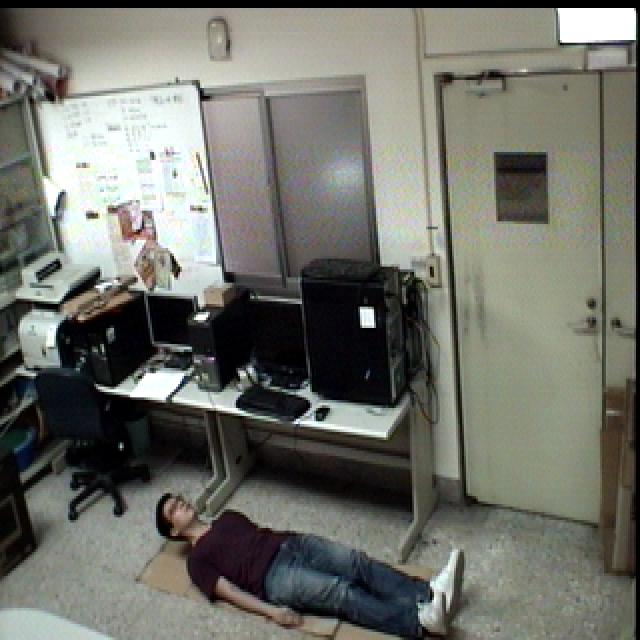lie: (147, 481, 473, 640)
